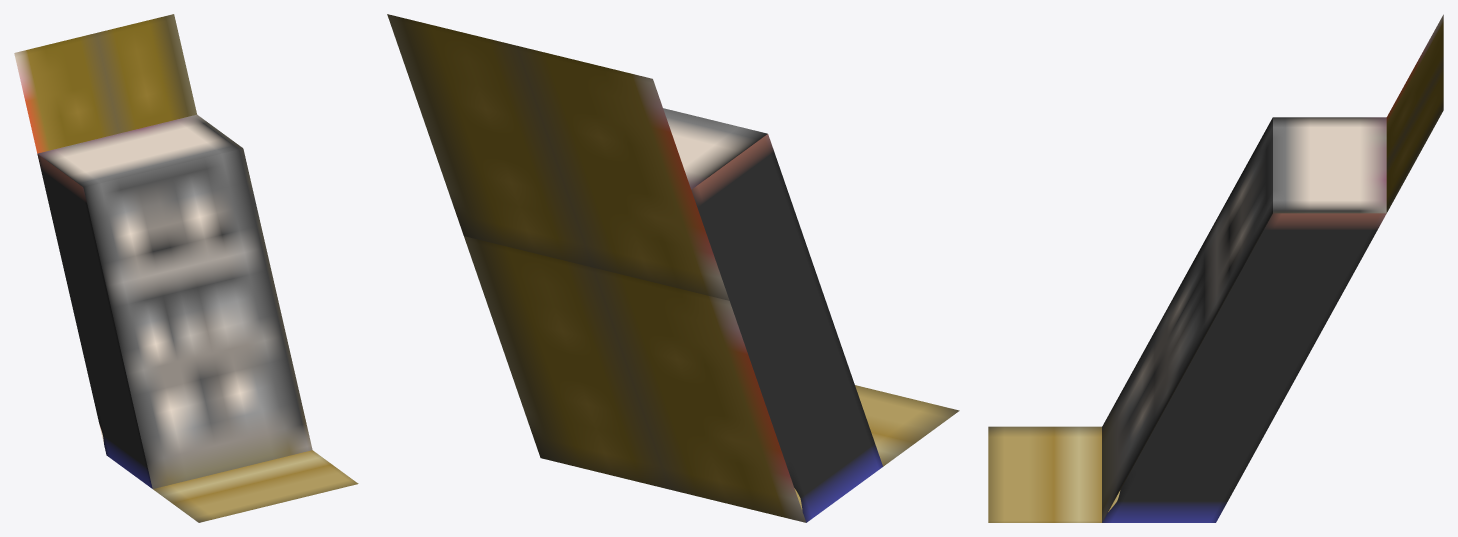
The model's file is tile_indoors_bookshelf.obj.
3 renders of one model, left to right at view 1: azimuth 30°, elevation 25°; view 2: azimuth 150°, elevation 25°; view 3: azimuth 270°, elevation 25°, orthographic. The views are drawn at different scales.
Parts seen in each view (by area): view 1: Default; view 2: Default; view 3: Default.
Boxes of the visible parts, x1=… form: Default: x1=14, y1=14, x2=358, y2=522; Default: x1=387, y1=14, x2=959, y2=522; Default: x1=988, y1=14, x2=1443, y2=522.
Bounding box in the file's own units: 1 × 2 × 2.
